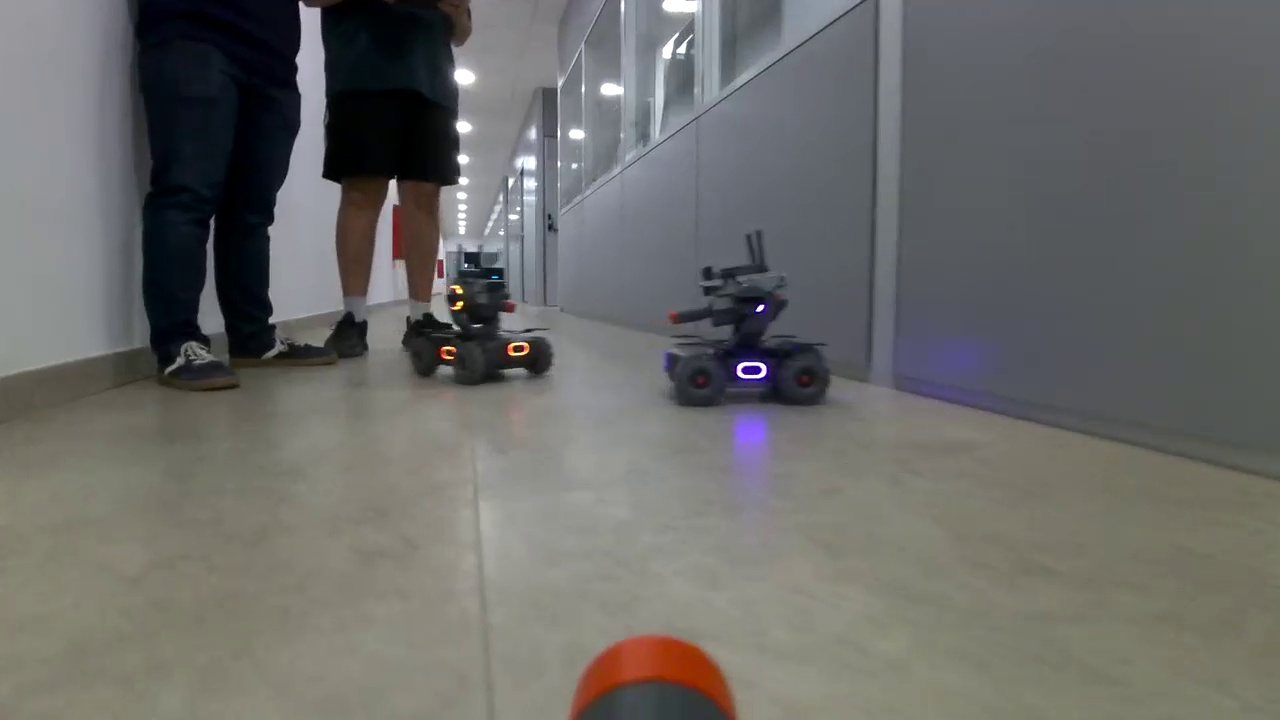robot: (664, 262, 832, 409), (409, 265, 554, 386)
